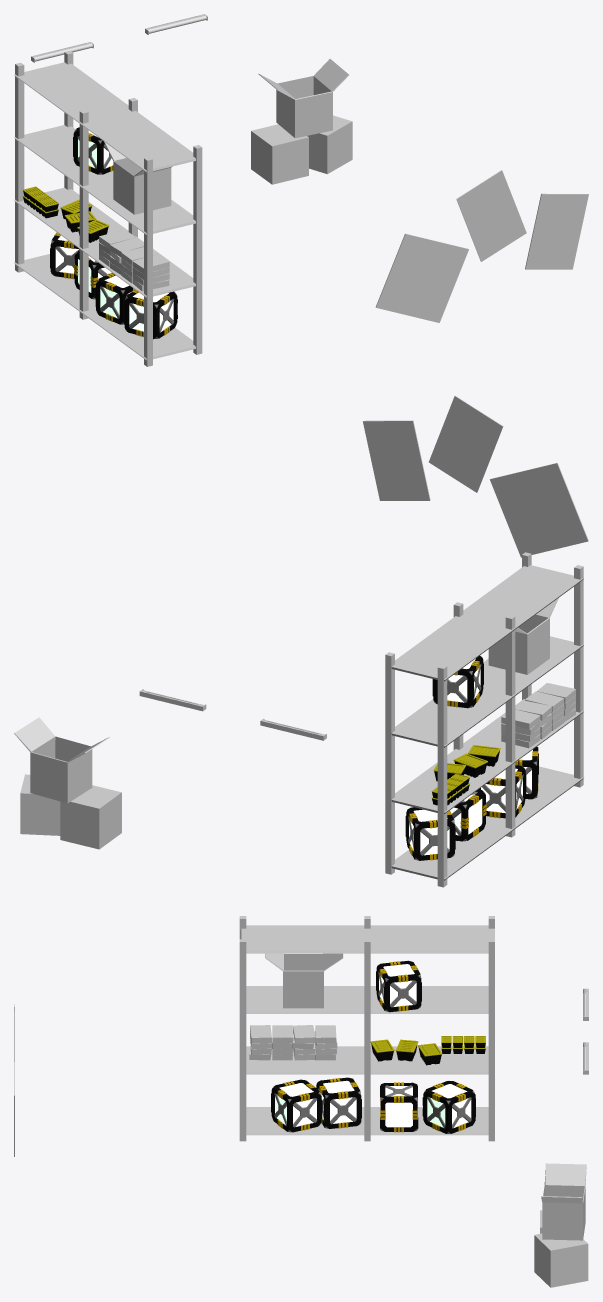
File: Furniture.fbx
3 views of the same model, one above another, from view 1: azimuth 30°, elevation 25°; view 2: azimuth 150°, elevation 25°; view 3: azimuth 270°, elevation 25° (orthographic). The views are drawn at different scales.
Visible parts, largest first — view 1: Cube, Plane.003, Plane.001, Plane.002, Cube.009, Cube.011, Mini_boxes.001, Cube.005, Cube.010, Cube.003, Cube.012, Cube.004 (+3 smaller); view 2: Cube, Plane.003, Cube.009, Plane.001, Plane.002, Cube.011, Mini_boxes.001, Cube.005, Cube.002, Cube.010, Cube.004, Cube.012 (+2 smaller); view 3: Cube, Cube.009, Mini_boxes.001, Cube.005, Cube.010, Cube.002, Cube.003, Cube.004, Cube.012, Cube.001, Boxes6.011.
Boxes of the visible parts, x1,y1,x2,y2 form: Cube: [14, 50, 202, 366]; Plane.003: [375, 233, 468, 322]; Plane.001: [525, 193, 588, 269]; Plane.002: [456, 170, 526, 261]; Cube.009: [258, 59, 348, 138]; Cube.011: [251, 124, 308, 184]; Mini_boxes.001: [99, 229, 169, 291]; Cube.005: [104, 141, 172, 214]; Cube.010: [307, 115, 352, 174]; Cube.003: [124, 289, 177, 339]; Cube.012: [95, 272, 134, 324]; Cube.004: [73, 127, 113, 174]; Cube: [385, 552, 583, 887]; Plane.003: [490, 463, 588, 557]; Cube.009: [14, 717, 109, 803]; Plane.001: [363, 420, 430, 500]; Plane.002: [429, 395, 503, 492]; Cube.011: [60, 785, 121, 849]; Mini_boxes.001: [501, 683, 575, 748]; Cube.005: [488, 598, 558, 674]; Cube.002: [405, 807, 455, 860]; Cube.010: [20, 774, 60, 835]; Cube.004: [432, 655, 483, 708]; Cube.012: [479, 765, 526, 818]; Cube: [239, 916, 494, 1141]; Cube.009: [541, 1163, 586, 1240]; Mini_boxes.001: [249, 1025, 337, 1060]; Cube.005: [265, 953, 343, 1008]; Cube.010: [534, 1233, 588, 1287]; Cube.002: [422, 1080, 475, 1133]; Cube.003: [271, 1079, 322, 1132]; Cube.004: [376, 960, 421, 1012]; Cube.012: [316, 1077, 361, 1128]; Cube.001: [380, 1082, 418, 1132]; Boxes6.011: [441, 1036, 485, 1053].
Bounding box in the file's own units: 4.99 × 2.91 × 7.
